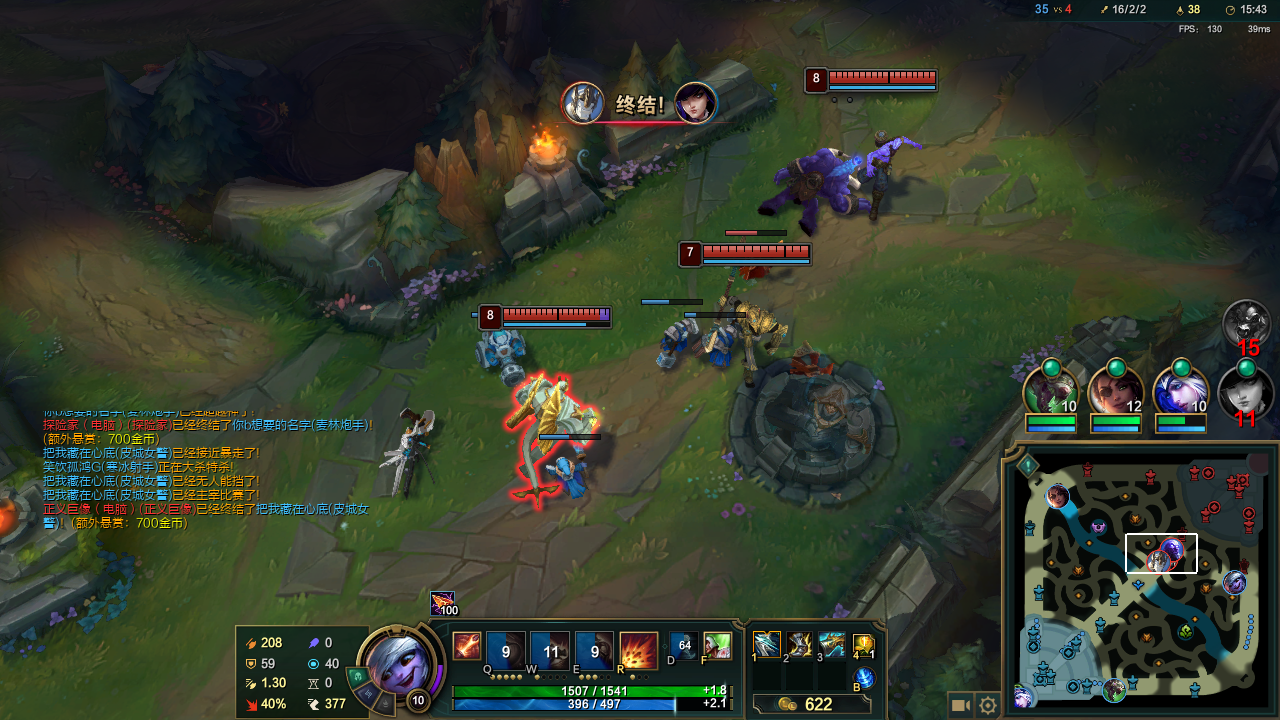DFYX: (692, 242, 801, 266), (822, 68, 933, 87), (505, 306, 609, 325)
WFXB: (468, 326, 537, 381), (535, 448, 592, 502), (656, 313, 702, 367), (699, 326, 741, 379)
